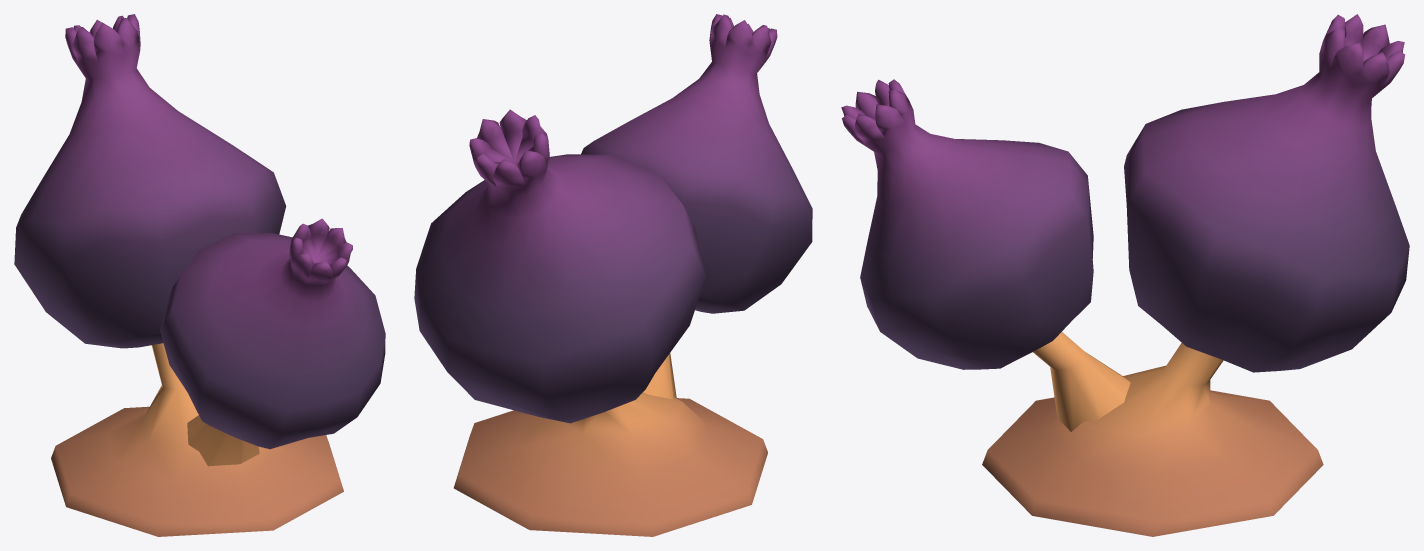
Rendered from mushrooms13.fbx.
3 views of the same model, side by side, from view 1: azimuth 30°, elevation 25°; view 2: azimuth 150°, elevation 25°; view 3: azimuth 270°, elevation 25° (orthographic). The views are drawn at different scales.
Visible parts, largest first — view 1: mushrooms13; view 2: mushrooms13; view 3: mushrooms13.
Part boxes in pixels (bbox=[...]): mushrooms13: bbox=[14, 14, 385, 536]; mushrooms13: bbox=[414, 14, 812, 536]; mushrooms13: bbox=[841, 14, 1409, 536].
Size of the model in its own units: 351 by 503 by 584.
Materials: 1 (1 with a texture image).
